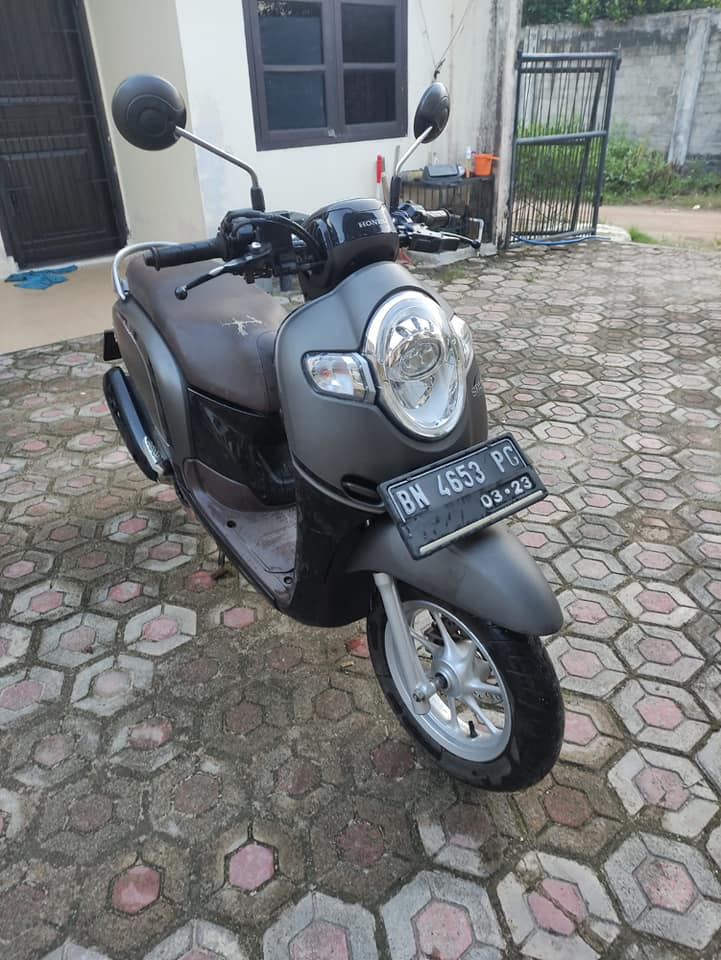plate: (364, 439, 558, 544)
